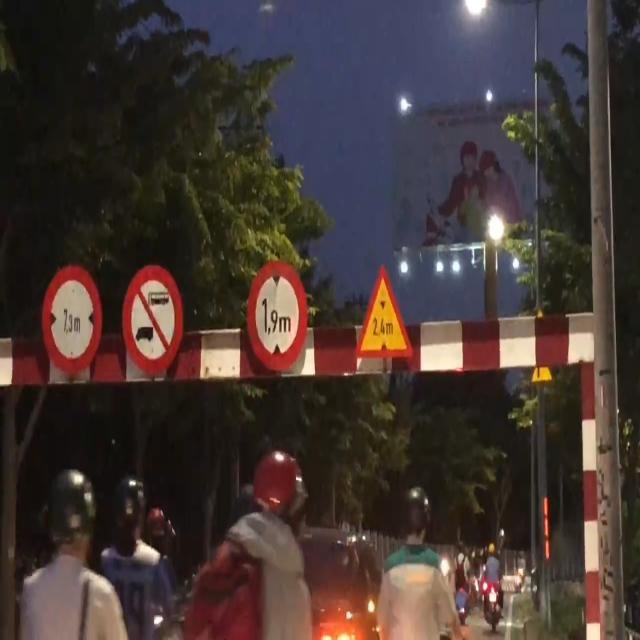Bien bao cam xe oto khach va xe oto tai: (121, 259, 188, 380)
Bien bao chieu cao tinh khong thuc te: (353, 254, 420, 369)
Bien bao han che chieu cao: (242, 256, 310, 379)
